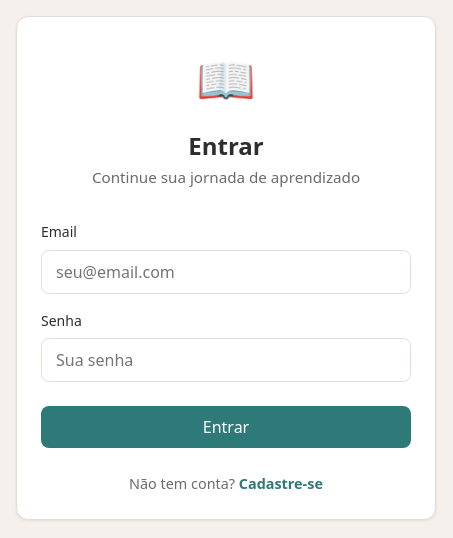
Scenario: Login page › disables button while loading
In the field with placeholder "seu@email.com": coordinates (226, 272) [41,250,411,294], type "test@test.com"
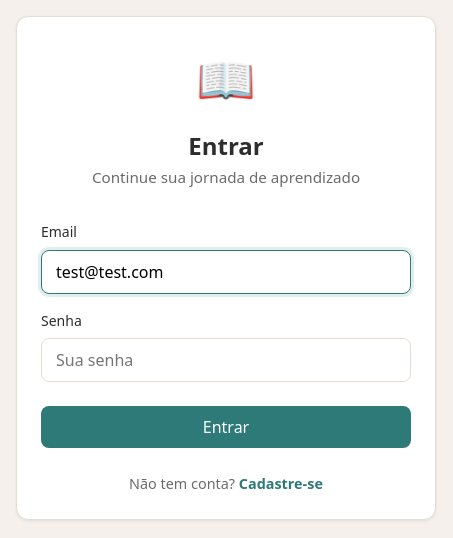
In the password field with placeholder "Sua senha": coordinates (226, 360) [41,338,411,382], type "123456"
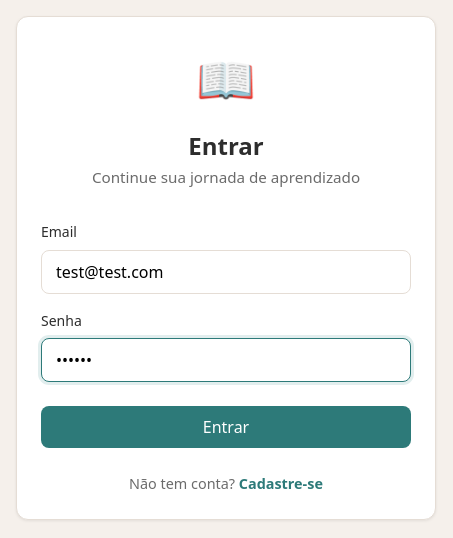
Click the button "Entrar": coordinates (226, 427) [41,406,411,448]
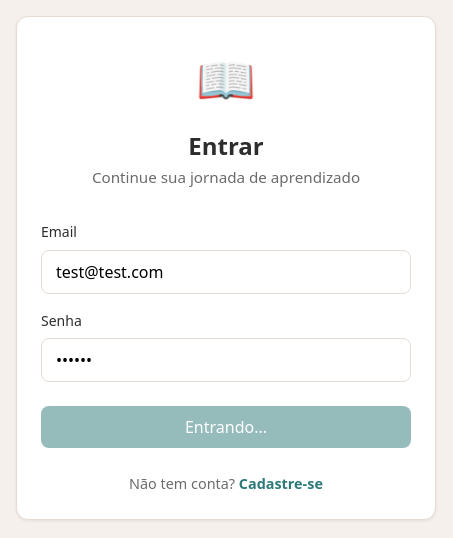
Now the button is disabled, box [41,406,411,448]
